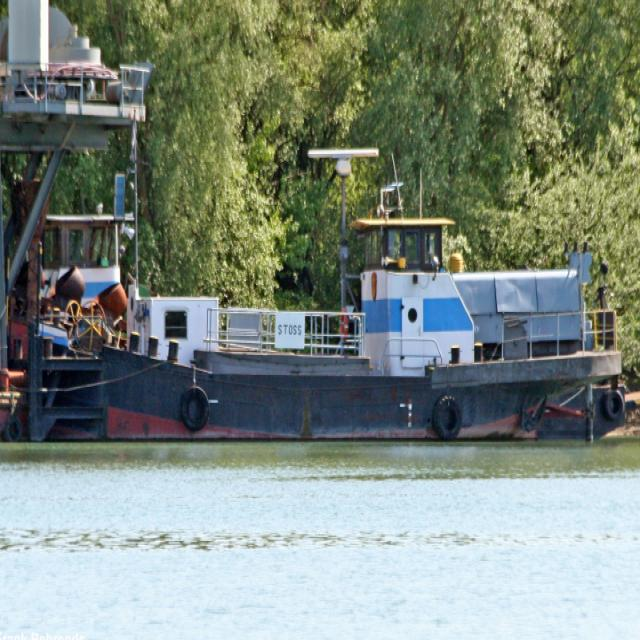tugboat: (7, 146, 636, 450)
